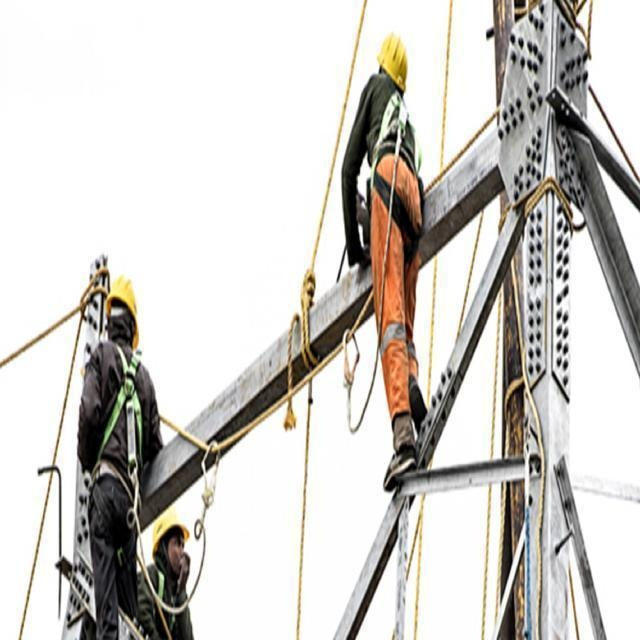Arnes_seguridad: (91, 338, 149, 570)
